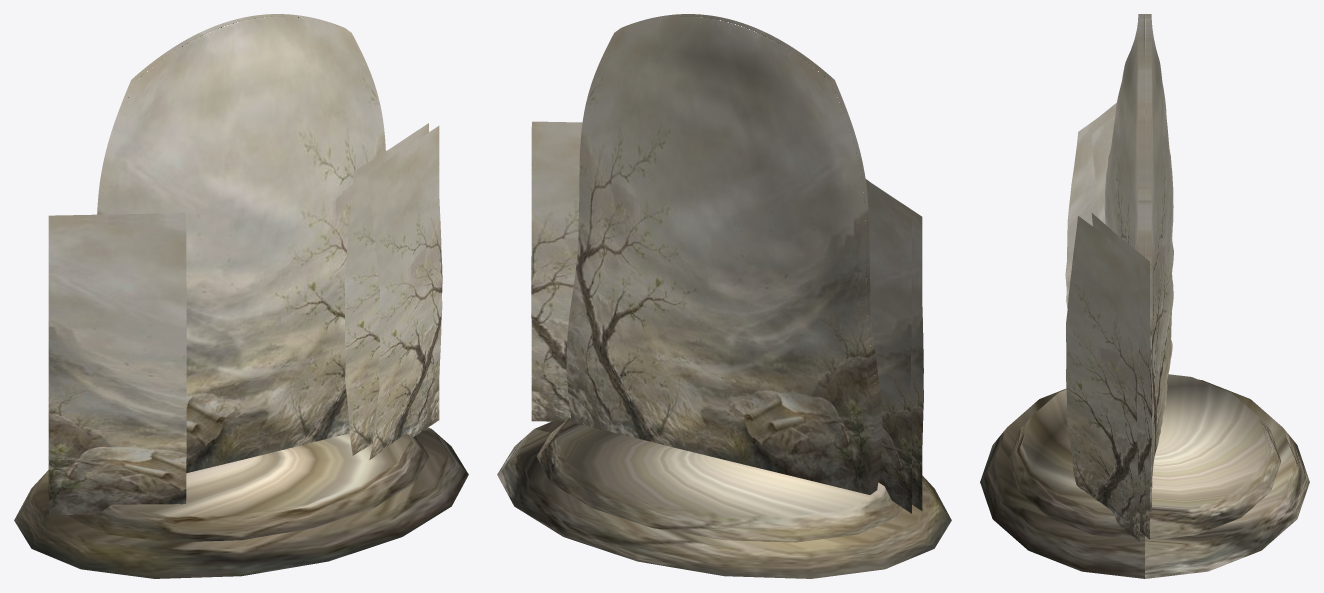
The model's file is can-these-bones-live-32.glb.
3 renders of one model, left to right at view 1: azimuth 30°, elevation 25°; view 2: azimuth 150°, elevation 25°; view 3: azimuth 270°, elevation 25°, orthographic. The views are drawn at different scales.
Parts seen in each view (by area): view 1: PaintingSculptureMonument; view 2: PaintingSculptureMonument; view 3: PaintingSculptureMonument.
Part boxes in pixels (left/top/right/bottom): PaintingSculptureMonument: left=14, top=14, right=468, bottom=578; PaintingSculptureMonument: left=497, top=14, right=951, bottom=578; PaintingSculptureMonument: left=980, top=14, right=1309, bottom=578.
Bounding box in the file's own units: 2.76 × 2.99 × 1.99.
Materials: 1 (1 with a texture image).
